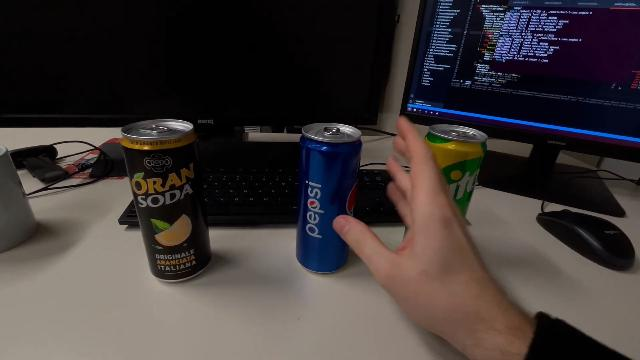OranSoda: (118, 116, 215, 286)
Pepsi: (292, 121, 363, 276)
Sprite: (399, 122, 491, 248)
